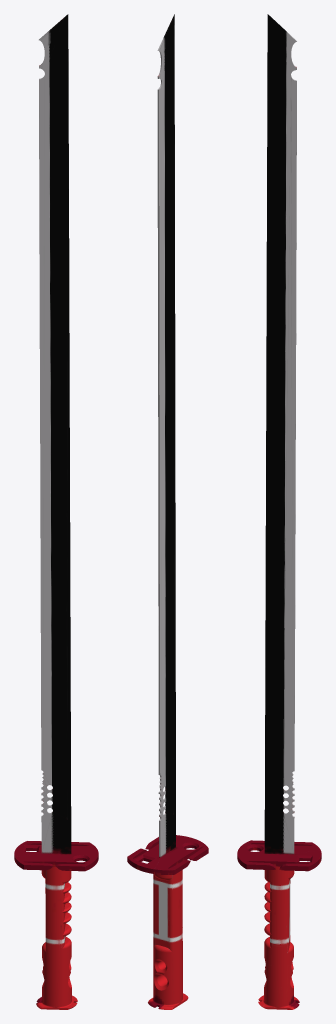
File: katanaCld.fbx
The picture shows the model from 3 angles, left to right: view 1: azimuth 90°, elevation 25°; view 2: azimuth 150°, elevation 25°; view 3: azimuth 270°, elevation 25°; orthographic projection.
Parts seen in each view (by area): view 1: node_id3; view 2: node_id3; view 3: node_id3.
Boxes of the visible parts, bbox=[...] form: node_id3: bbox=[14, 14, 98, 1009]; node_id3: bbox=[127, 14, 208, 1009]; node_id3: bbox=[237, 14, 321, 1009].
Bounding box in the file's own units: 0.0288 × 0.5121 × 0.0395.
1 material, 1 textured.
